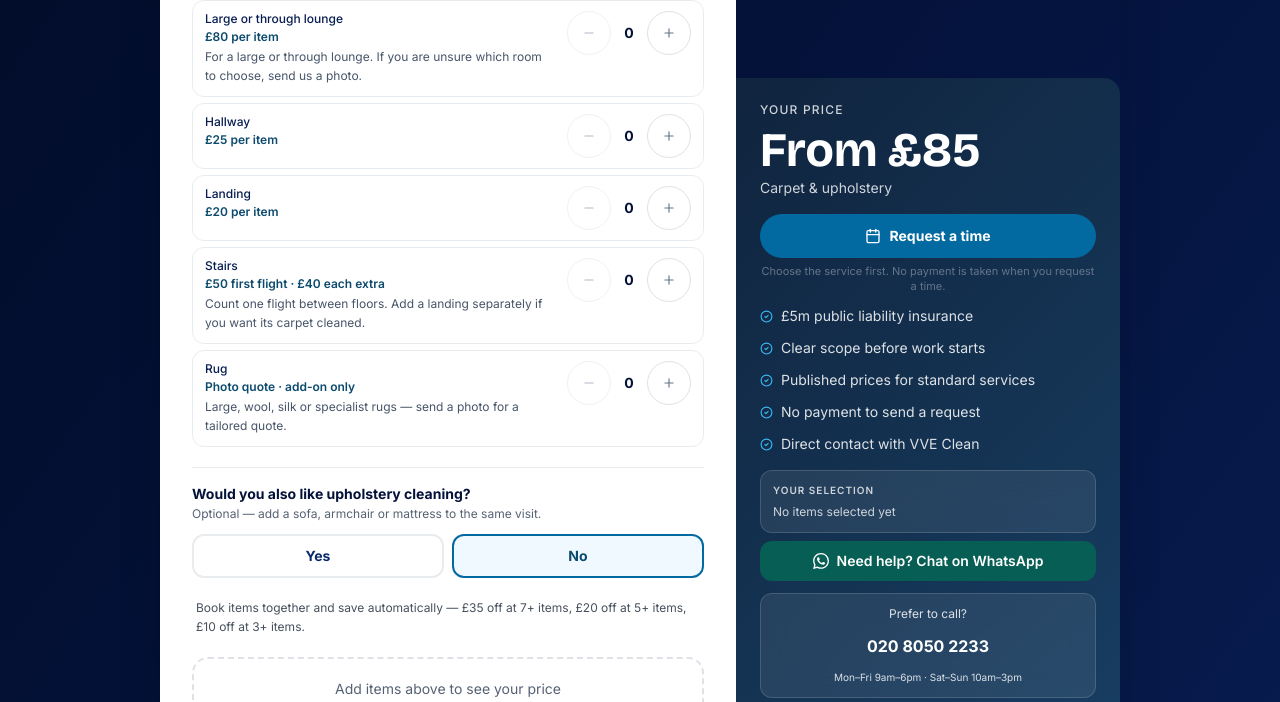
Test: Carpet page — optional upholstery disclosure › does not offer a rug-only online booking
(page scrolled)
Click the button named "Increase Rug quantity".
click(669, 383)  # box [647,361,691,405]
(page scrolled)
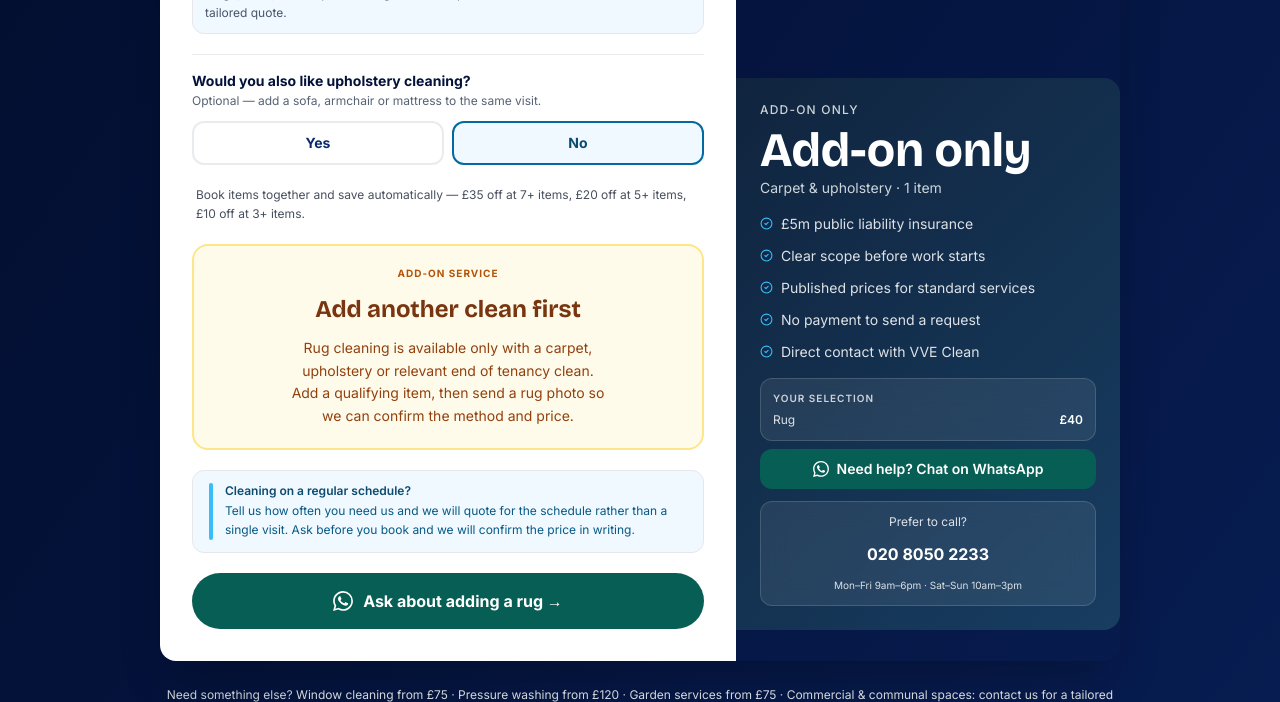
Expected: the heading "Add-on only" is shown, [760,102,859,117]
Expected: the text "Rug cleaning is available only with a carpet, upholstery or relevant end of tenancy clean" is shown, [292,339,604,424]
